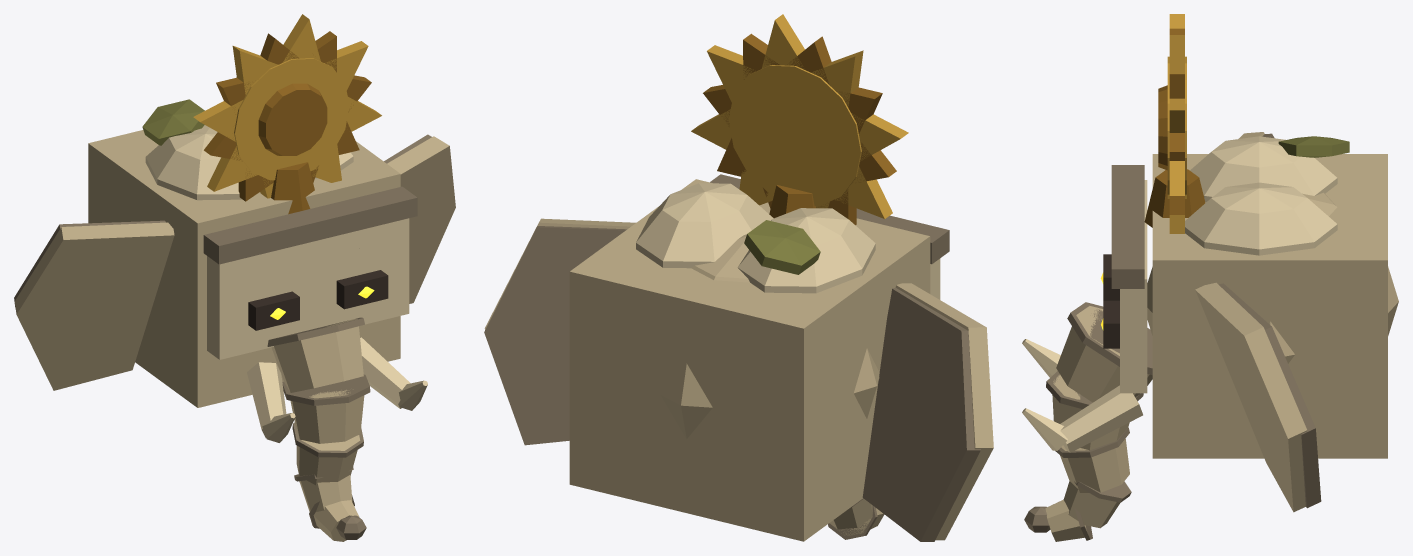
Rendered from stone_colossus_head.glb.
3 renders of one model, left to right at view 1: azimuth 30°, elevation 25°; view 2: azimuth 150°, elevation 25°; view 3: azimuth 270°, elevation 25°, orthographic. The views are drawn at different scales.
Parts seen in each view (by area): view 1: stone_colossus_head; view 2: stone_colossus_head; view 3: stone_colossus_head.
Boxes of the visible parts, x1,y1,x2,y2 form: stone_colossus_head: (14, 14, 455, 541); stone_colossus_head: (484, 14, 993, 541); stone_colossus_head: (1022, 14, 1398, 541).
Bounding box in the file's own units: 1.99 × 2.08 × 1.38.
